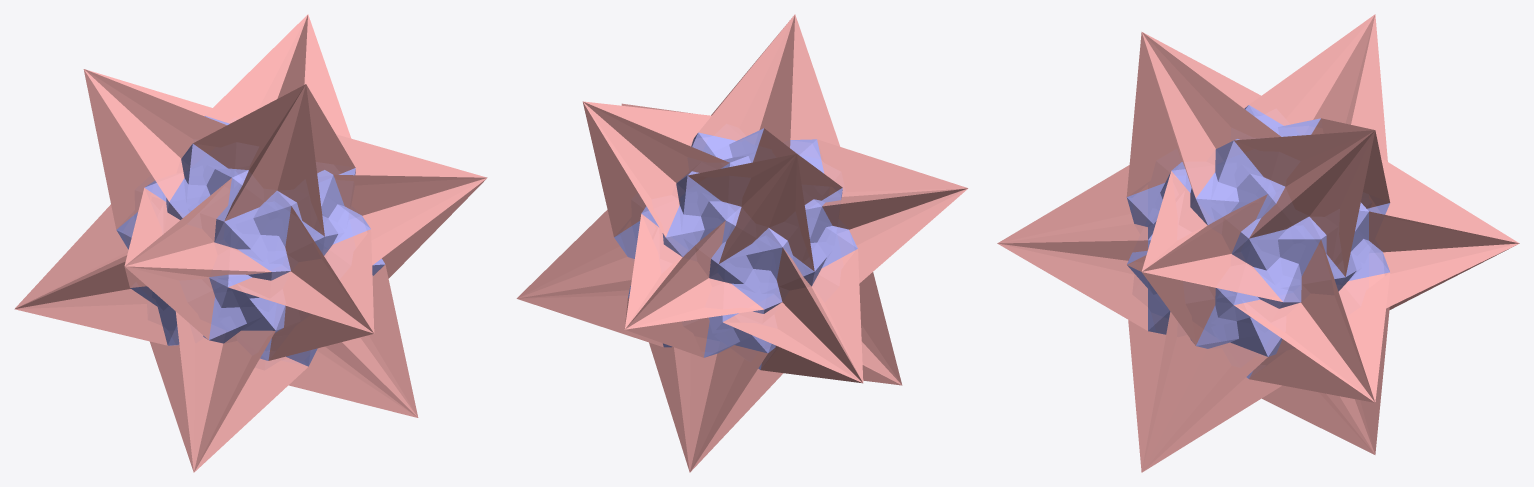
The model's file is 41_Dodecaugmented_Gosid.obj.
The picture shows the model from 3 angles, left to right: view 1: azimuth 30°, elevation 25°; view 2: azimuth 150°, elevation 25°; view 3: azimuth 270°, elevation 25°; orthographic projection. The views are drawn at different scales.
Bounding box in the file's own units: 2.51 × 2.64 × 2.95.
